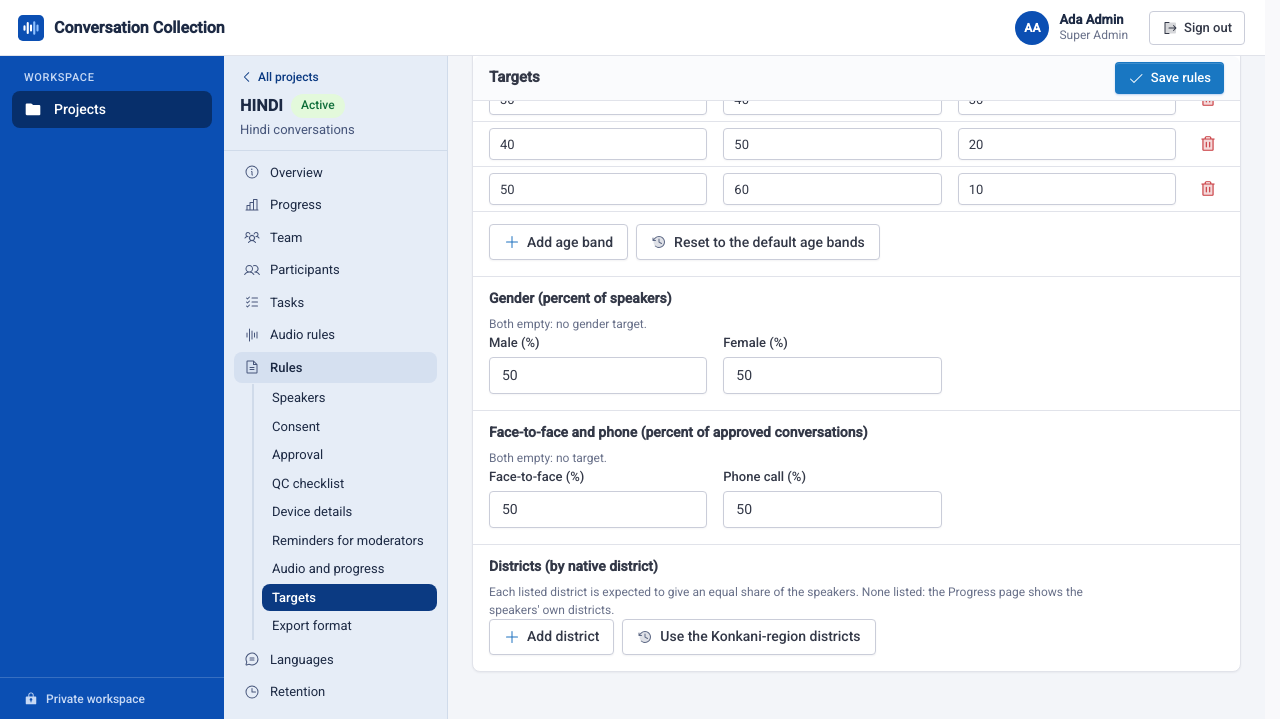
Scenario: the targets on one grid (D-158) › puts gender and the districts under titles of their own
(page scrolled)
Clear the number field labelled "Male (%)": point(598, 376) [489,357,707,394]
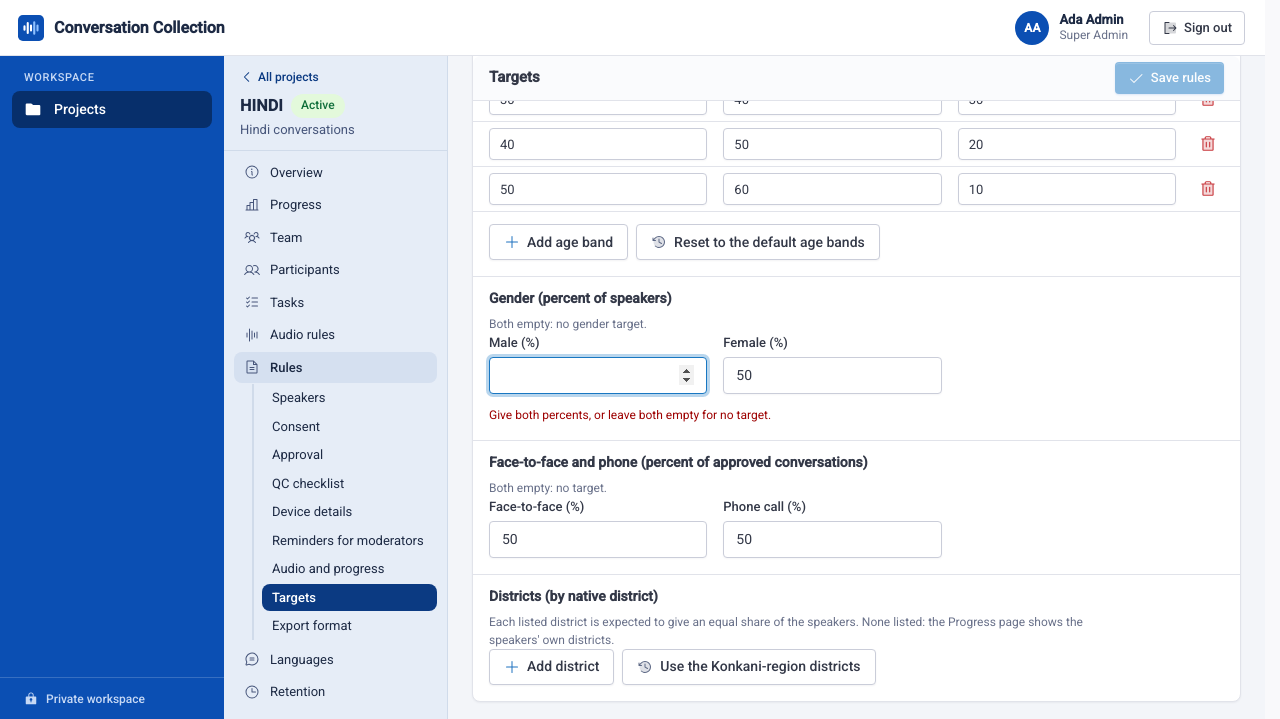
Click the button "Use the Konkani-region districts": point(749, 667) [622,649,876,685]
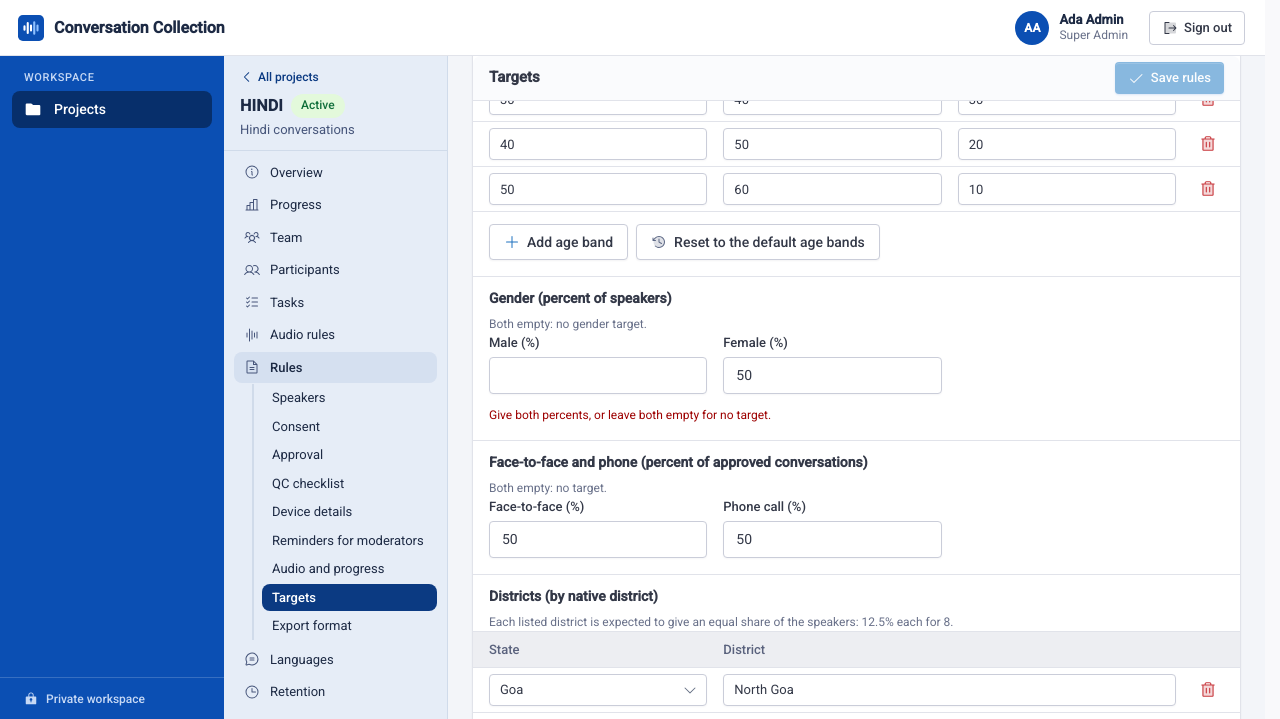
Expected: the text "State" is shown once, [489,642,520,657]
Expected: the text "District" is shown once, [723,642,765,657]
Expected: the number of dropdowns named "State" is 8
